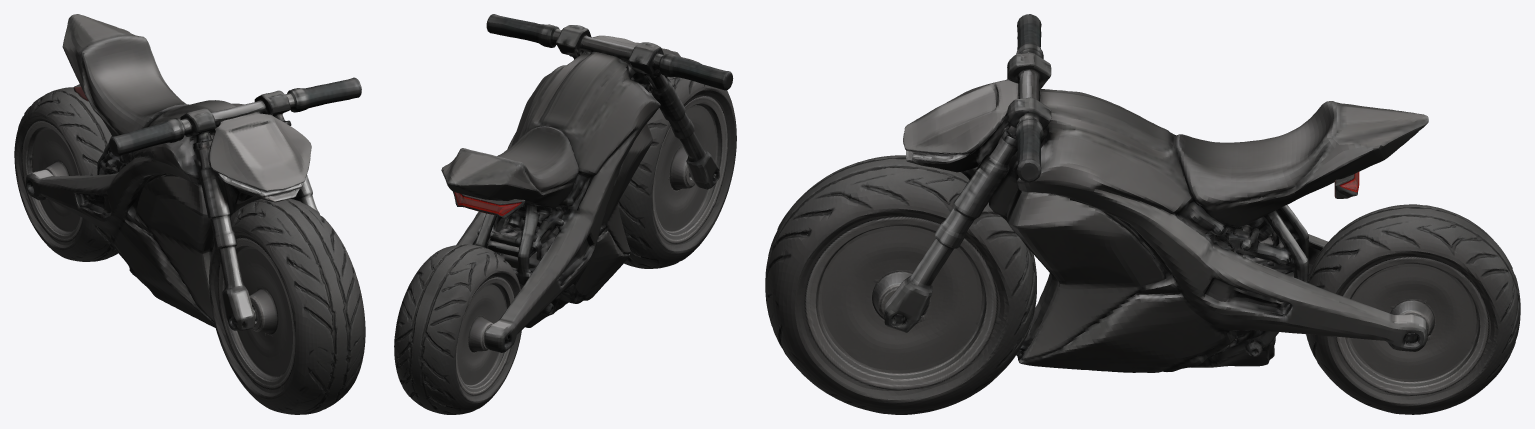
The model's file is Motorcycle.fbx.
3 renders of one model, left to right at view 1: azimuth 30°, elevation 25°; view 2: azimuth 150°, elevation 25°; view 3: azimuth 270°, elevation 25°, orthographic. The views are drawn at different scales.
Visible parts, largest first — view 1: Body_Frame, Wheel_Front, Wheel_Rear, Body_Seat; view 2: Body_Frame, Wheel_Rear, Wheel_Front, Body_Seat, Light_Tail; view 3: Body_Frame, Wheel_Front, Wheel_Rear, Body_Seat.
Part boxes in pixels (left/top/right/bottom): Body_Frame: left=25, top=14, right=361, bottom=330; Wheel_Front: left=209, top=199, right=365, bottom=414; Wheel_Rear: left=14, top=87, right=118, bottom=261; Body_Seat: left=79, top=34, right=188, bottom=133; Body_Frame: left=441, top=14, right=733, bottom=352; Wheel_Rear: left=394, top=244, right=521, bottom=414; Wheel_Front: left=618, top=57, right=736, bottom=268; Body_Seat: left=459, top=126, right=578, bottom=190; Light_Tail: left=453, top=191, right=525, bottom=217; Body_Frame: left=884, top=14, right=1428, bottom=372; Wheel_Front: left=765, top=155, right=1036, bottom=414; Wheel_Rear: left=1306, top=204, right=1520, bottom=414; Body_Seat: left=1179, top=101, right=1341, bottom=202.
Bounding box in the file's own units: 0.6432 × 0.6662 × 1.39.
